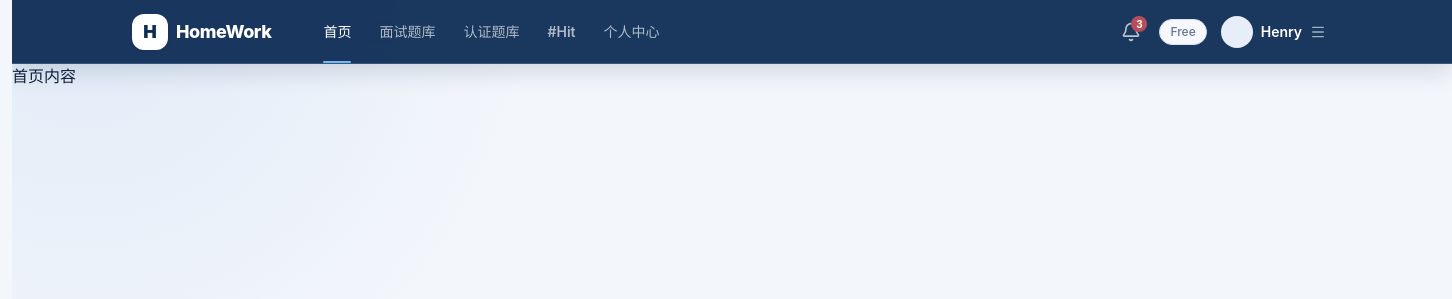
it: AppShell › keeps all primary navigation entries around protected content
This screenshot has width=1452, height=299.
Expected: the text "Henry" is shown, [1261, 22, 1302, 42]
Expected: the link "首页" is shown, [312, 0, 364, 63]
Click the button "Henry". click: click(1273, 32)
box: [1215, 10, 1332, 54]
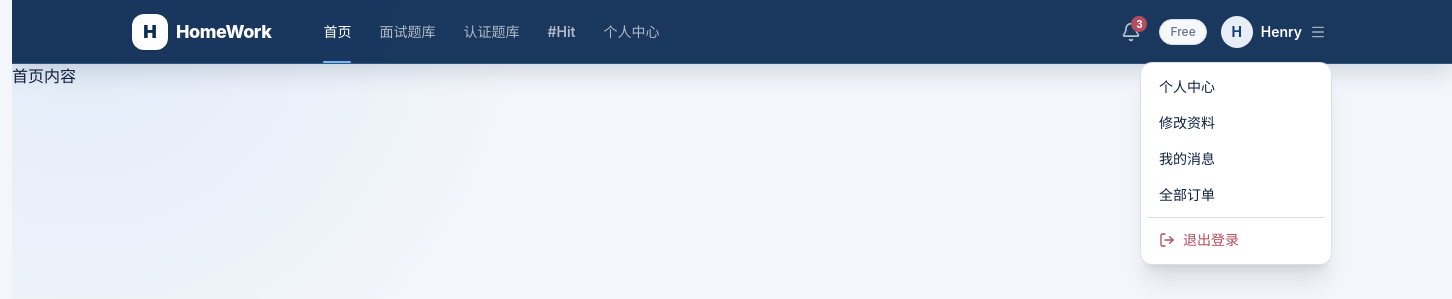
Expected: the menu item "修改资料" is shown, [1159, 114, 1215, 131]
